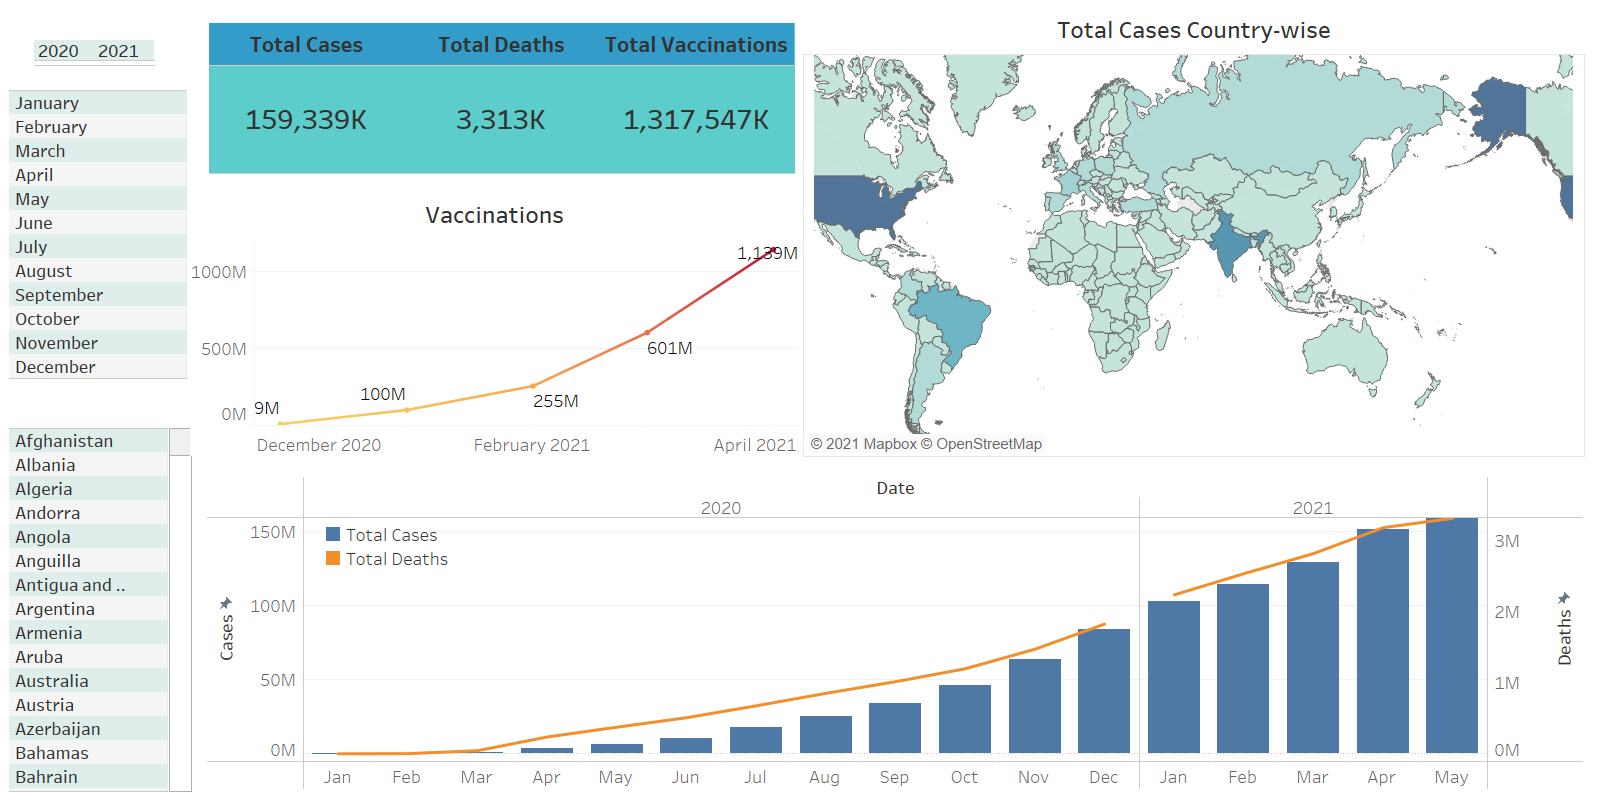

This screenshot's page, from the dashboard's own definition file:
{"tool":"tableau","page":{"name":"Dashboard 1","canvas":[1600,800],"ordinal":0},"visuals":[{"type":"worksheet","title":"Sheet 1","mark":"Automatic","box":[803,7,782,450]},{"type":"worksheet","title":"Sheet 12","mark":"Automatic","box":[209,8,586,166]},{"type":"worksheet","title":"Sheet 3","mark":"Automatic","cols":["date"],"box":[34,25,130,50]},{"type":"worksheet","title":"Sheet 4","mark":"Automatic","rows":["date"],"box":[9,75,178,309]},{"type":"worksheet","title":"Sheet 9","mark":"Automatic","rows":["total_vaccinations"],"cols":["date (Vaccinations)"],"box":[190,192,609,264]},{"type":"worksheet","title":"Sheet 10","mark":"Automatic","rows":["location"],"box":[9,413,183,379]},{"type":"worksheet","title":"Sheet 7","mark":"Bar","rows":["total_cases","total_deaths"],"cols":["date","date"],"box":[207,462,1377,328]},{"type":"worksheet","title":"Sheet 7","mark":"Bar","rows":["total_cases","total_deaths"],"cols":["date","date"],"param":"[federated.1tsd44r1e0iktr1c3t6q1125w6v6].[:Measure Names]","box":[321,522,192,74]}]}

Visuals, with their boxes in screenshot pixels (x1, y1, x2, y2), scaled from the page's 1600x800 canvas onto the 1600x800 screenshot:
"Sheet 1" worksheet: {"left": 803, "top": 7, "right": 1585, "bottom": 457}
"Sheet 12" worksheet: {"left": 209, "top": 8, "right": 795, "bottom": 174}
"Sheet 3" worksheet: {"left": 34, "top": 25, "right": 164, "bottom": 75}
"Sheet 4" worksheet: {"left": 9, "top": 75, "right": 187, "bottom": 384}
"Sheet 9" worksheet: {"left": 190, "top": 192, "right": 799, "bottom": 456}
"Sheet 10" worksheet: {"left": 9, "top": 413, "right": 192, "bottom": 792}
"Sheet 7" worksheet (Bar marks): {"left": 207, "top": 462, "right": 1584, "bottom": 790}
"Sheet 7" worksheet (Bar marks): {"left": 321, "top": 522, "right": 513, "bottom": 596}
